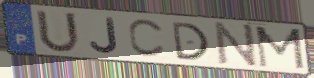C: (126, 18, 167, 60)
D: (170, 21, 212, 61)
J: (89, 16, 121, 56)
M: (253, 25, 307, 71)
N: (214, 21, 259, 70)
U: (34, 8, 83, 55)
